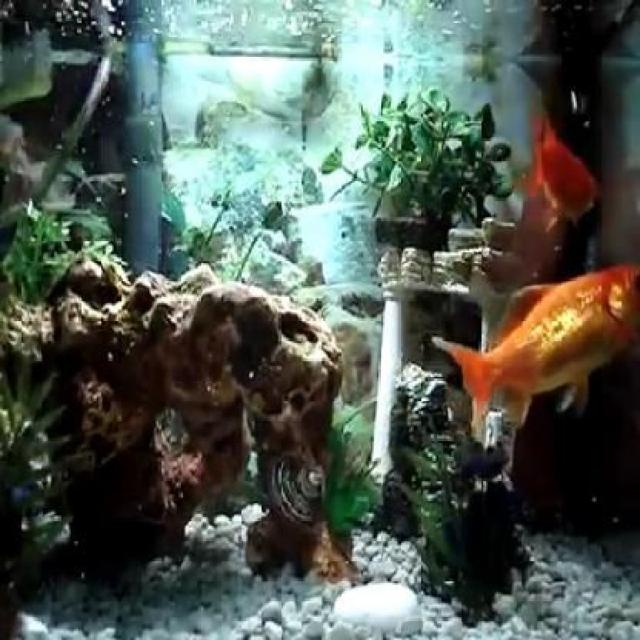GoldFish: (433, 262, 639, 436)
